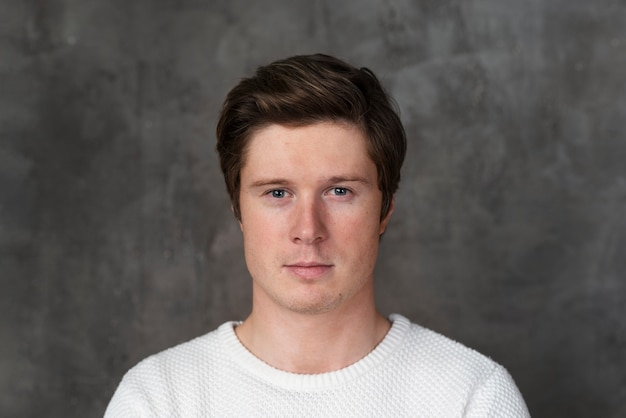teen: (210, 54, 399, 316)
